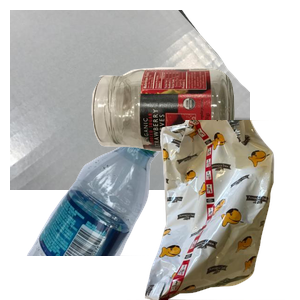cardboard: (10, 10, 250, 190)
glass: (89, 65, 300, 212)
plastic: (24, 120, 182, 300)
trash: (127, 120, 300, 300)
